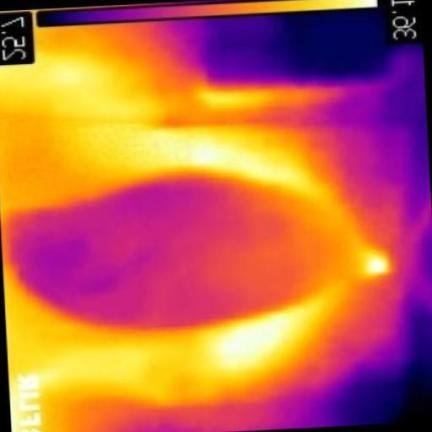mango: (10, 176, 351, 330)
